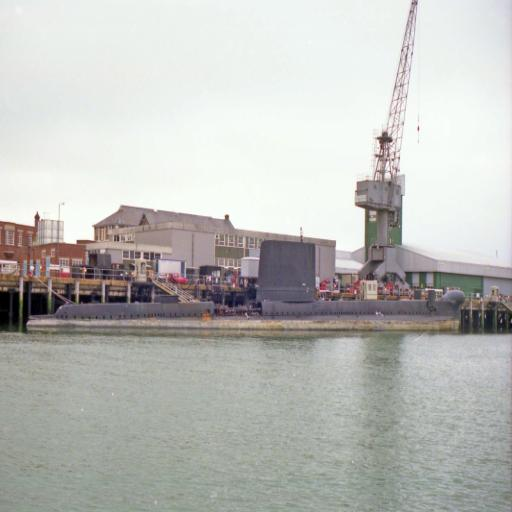submarine: (41, 242, 461, 334)
